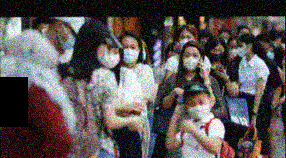with_mask: (59, 24, 78, 52), (186, 98, 210, 120), (101, 47, 121, 69), (182, 51, 202, 71), (121, 42, 139, 63), (209, 46, 226, 62), (178, 34, 196, 49), (237, 43, 250, 57), (228, 44, 239, 57), (266, 49, 276, 60)
